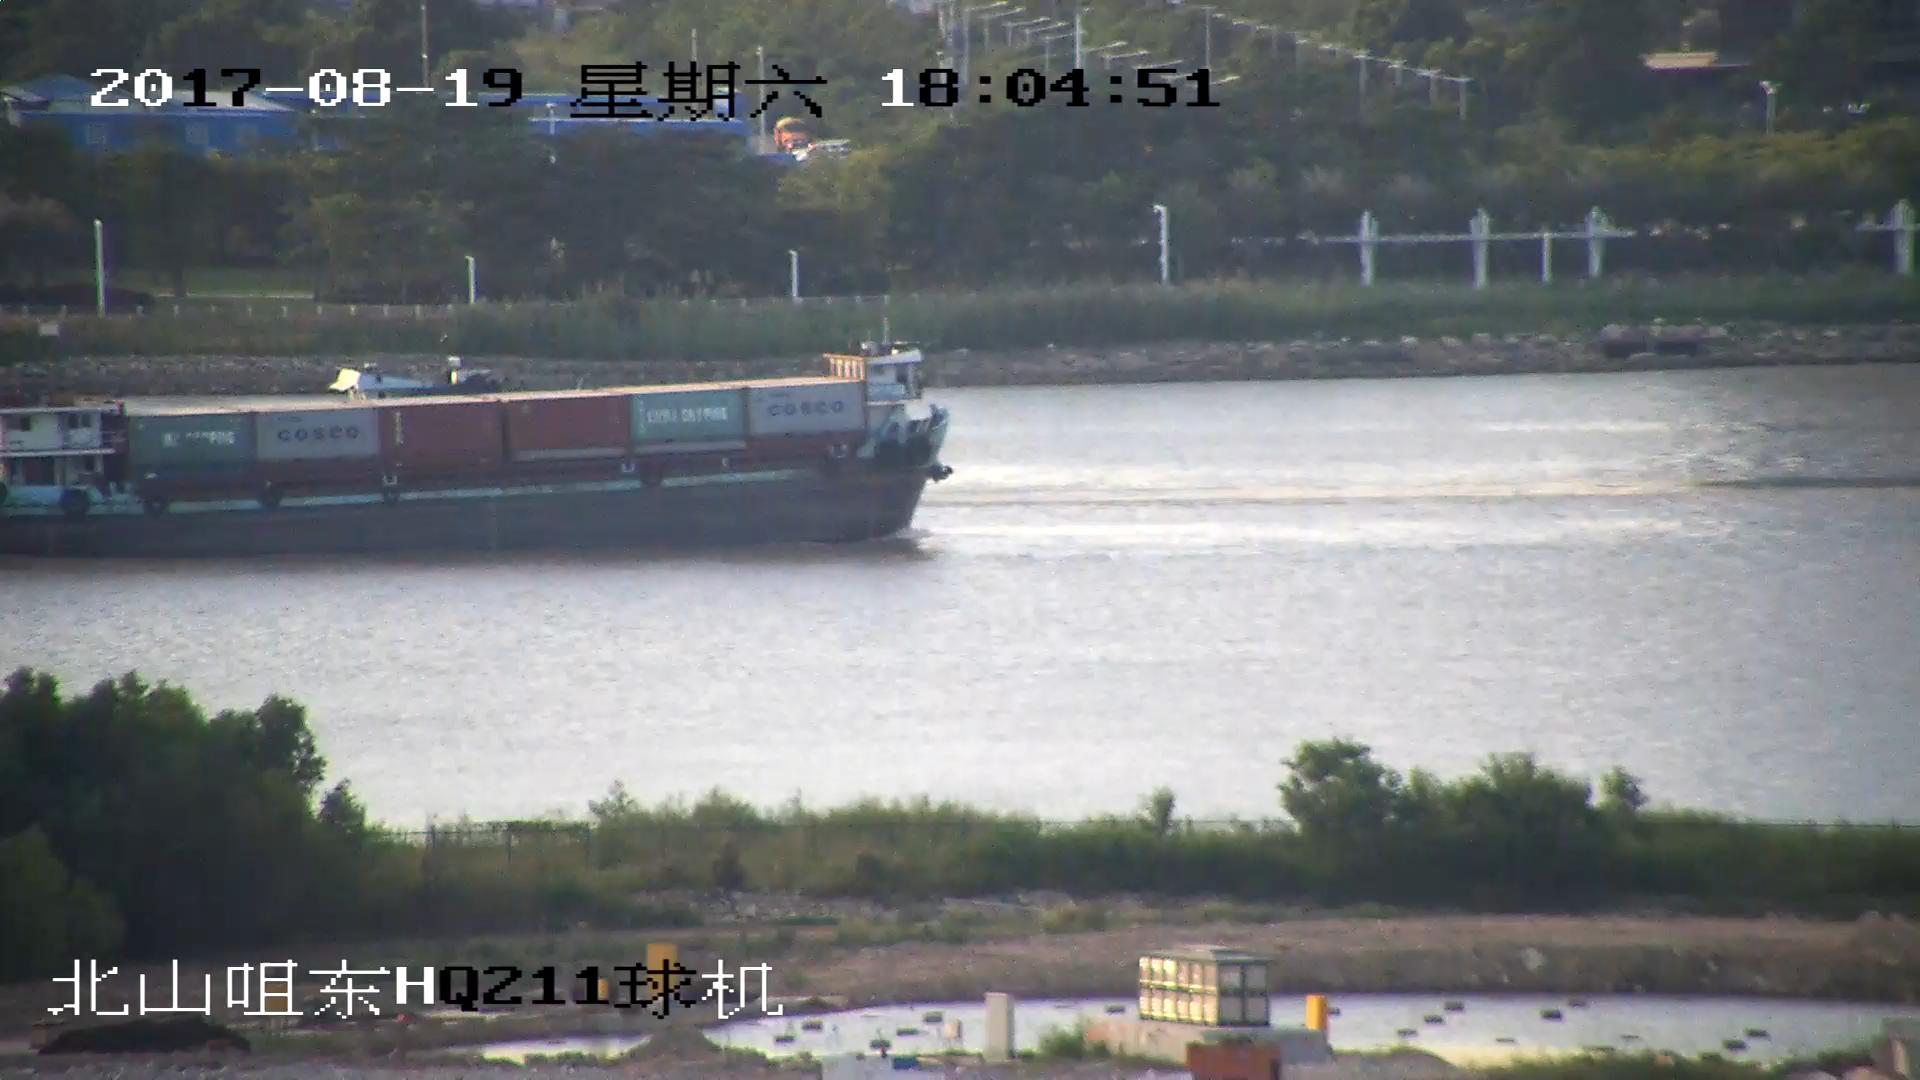container ship: (1, 329, 954, 552)
